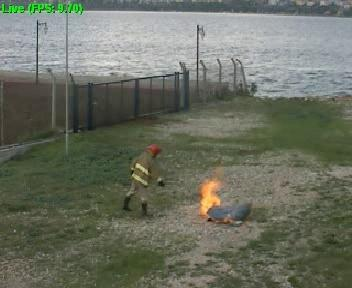fire: (191, 168, 246, 219)
